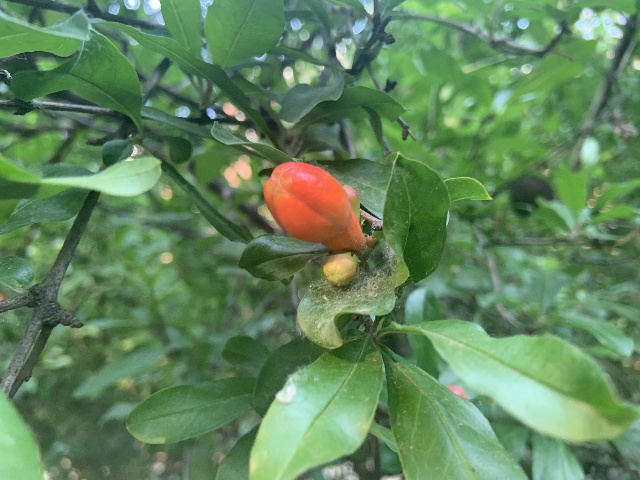bud: (263, 161, 366, 253), (323, 252, 359, 285), (342, 185, 360, 224)
